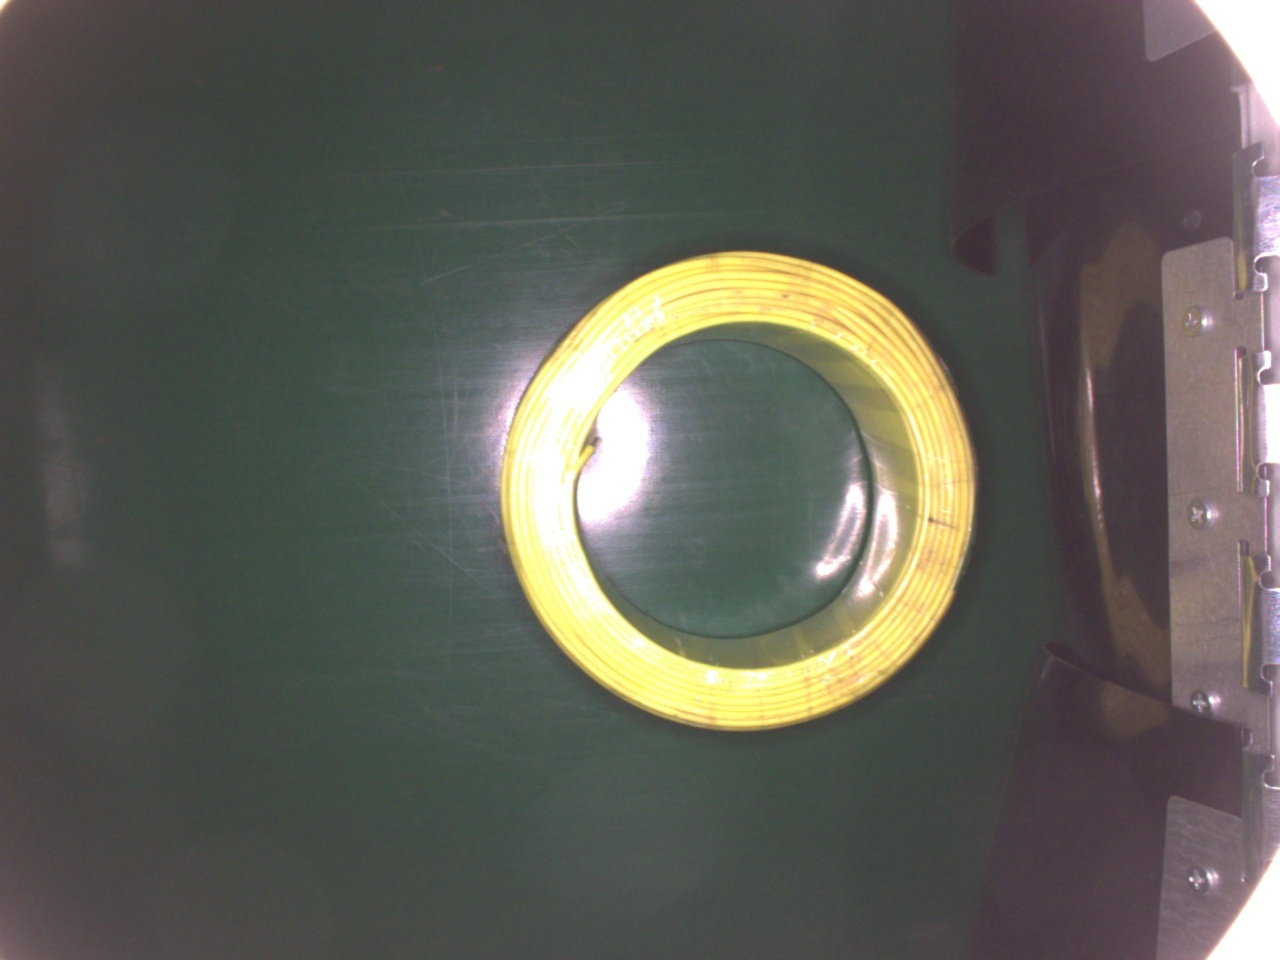yellow: (495, 246, 985, 737)
